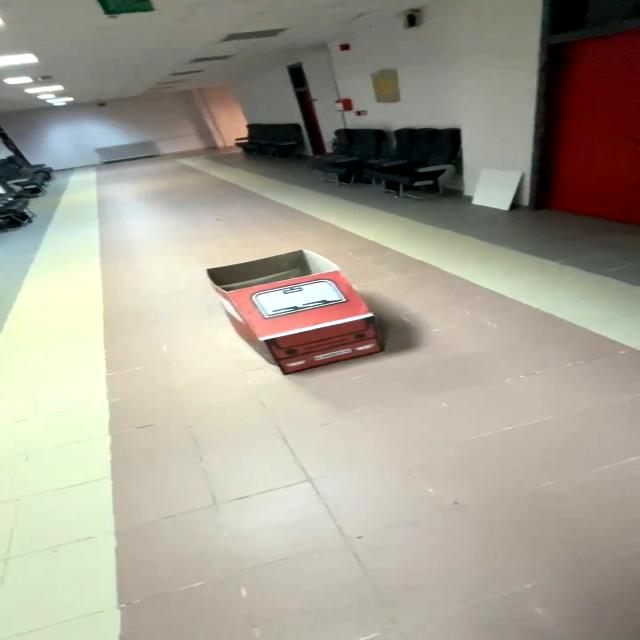red_car: (180, 238, 431, 398)
